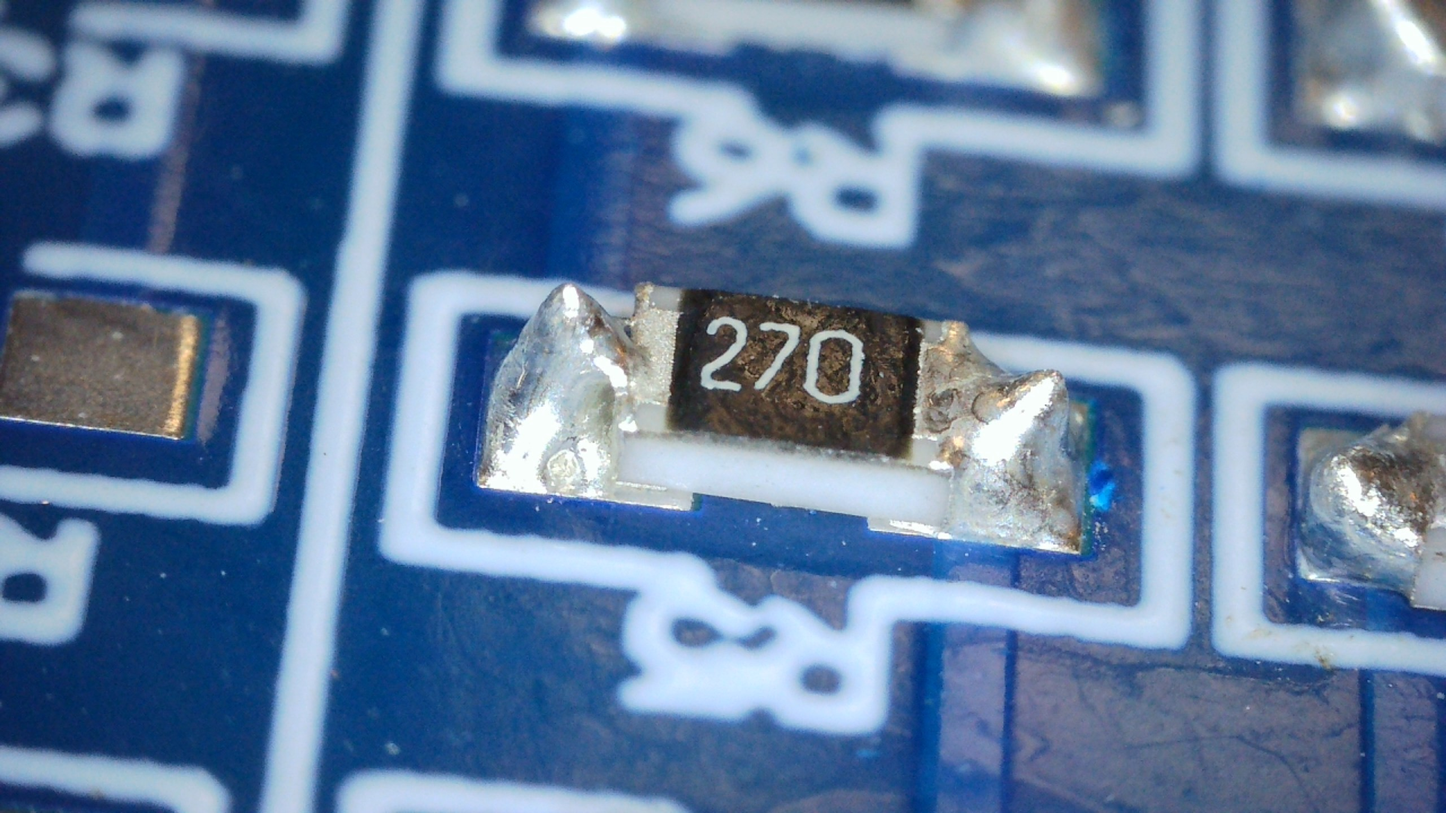NG: (476, 283, 632, 502), (927, 370, 1080, 548)
